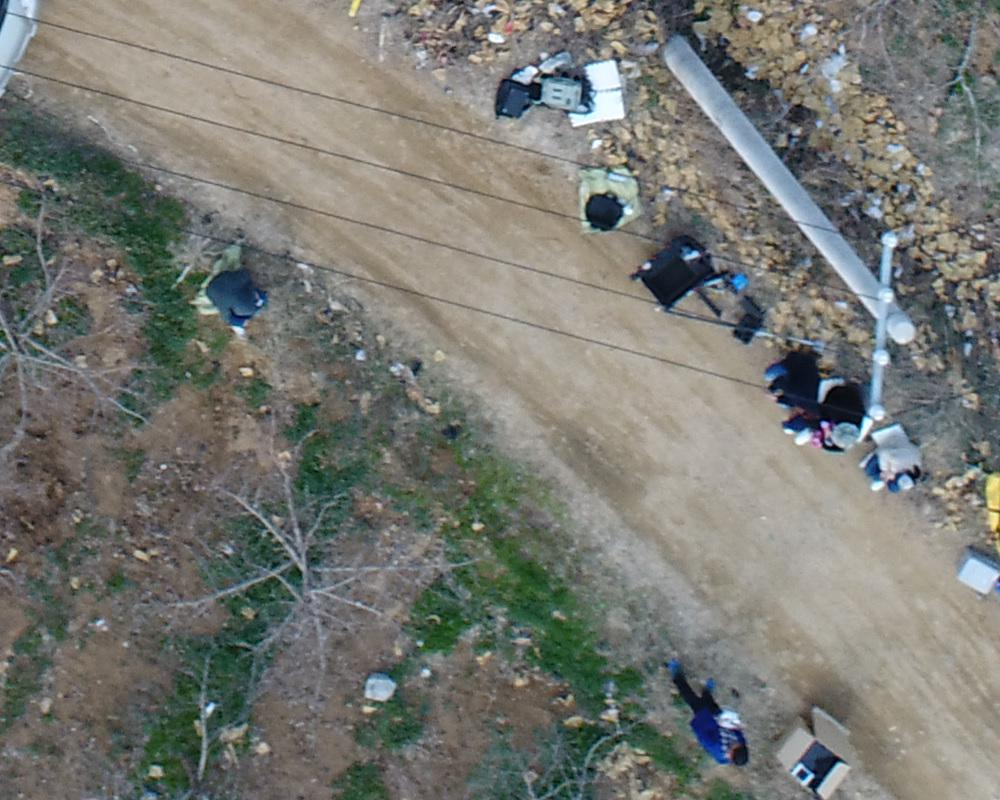apple: (152, 426, 495, 686), (10, 195, 171, 469)
